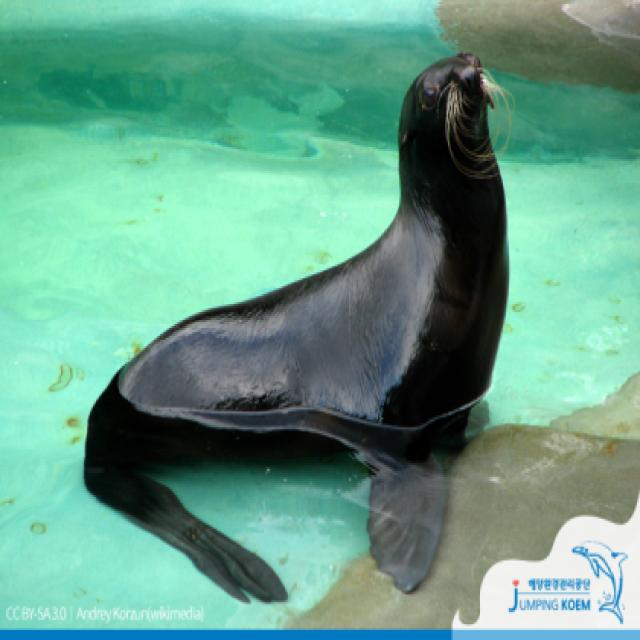WaterDog: (86, 45, 516, 577)
